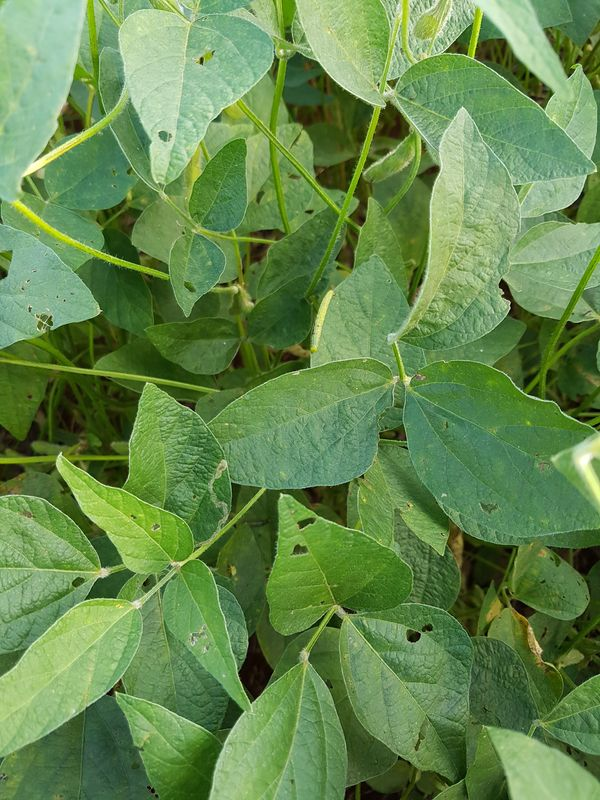Anticarsia_gemmatalis: (298, 284, 352, 358)
